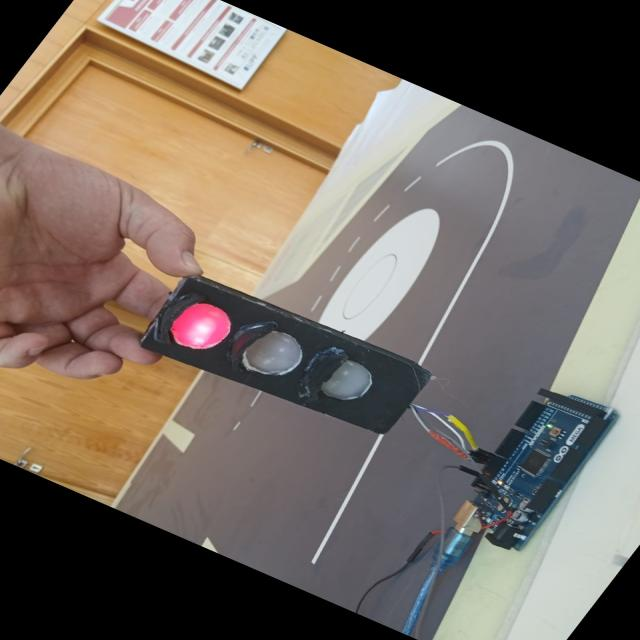red: (170, 303, 231, 350)
trafic lights: (141, 276, 431, 434)
